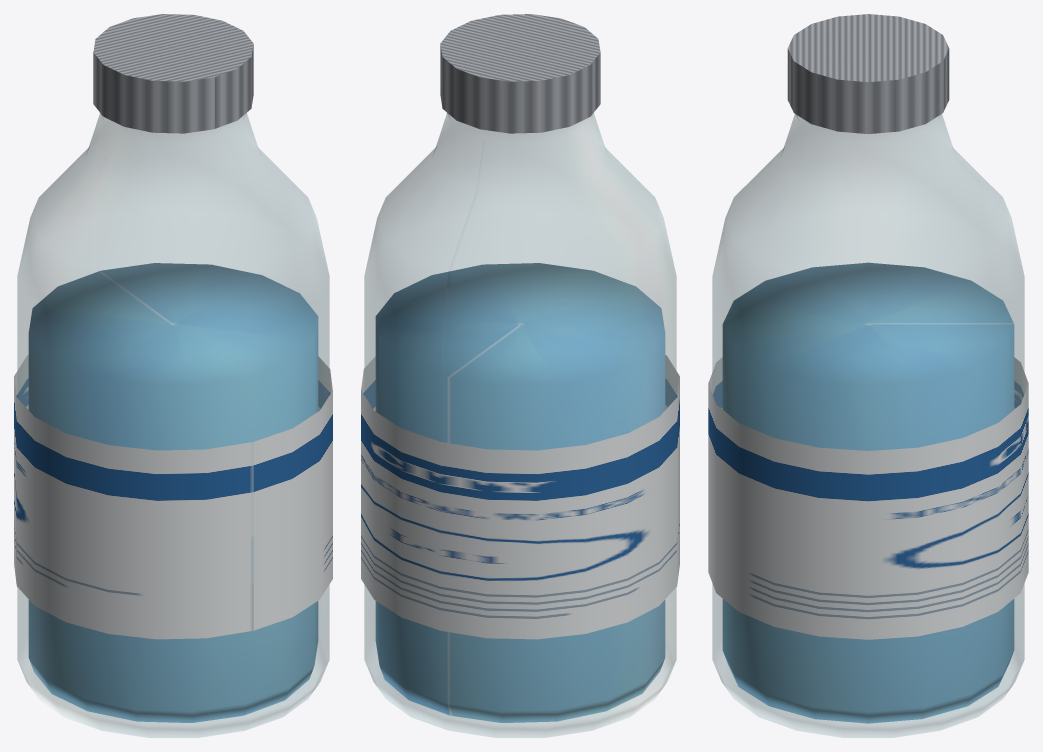
File: citywater.obj
The picture shows the model from 3 angles, left to right: view 1: azimuth 30°, elevation 25°; view 2: azimuth 150°, elevation 25°; view 3: azimuth 270°, elevation 25°; orthographic projection.
Visible parts, largest first — view 1: citywater_1_surface, citywater_0_glass, citywater_2_surface; view 2: citywater_1_surface, citywater_0_glass, citywater_2_surface; view 3: citywater_1_surface, citywater_0_glass, citywater_2_surface.
Boxes of the visible parts, box(x1,y1,x2,y2) form: citywater_1_surface: box(14, 263, 332, 722); citywater_0_glass: box(17, 113, 329, 737); citywater_2_surface: box(93, 14, 253, 133); citywater_1_surface: box(361, 263, 679, 722); citywater_0_glass: box(364, 113, 676, 737); citywater_2_surface: box(440, 14, 600, 133); citywater_1_surface: box(708, 262, 1028, 723); citywater_0_glass: box(712, 114, 1024, 737); citywater_2_surface: box(787, 14, 949, 133).
Bounding box in the file's own units: 0.123 × 0.267 × 0.123.
Materials: 3 (3 with a texture image).
